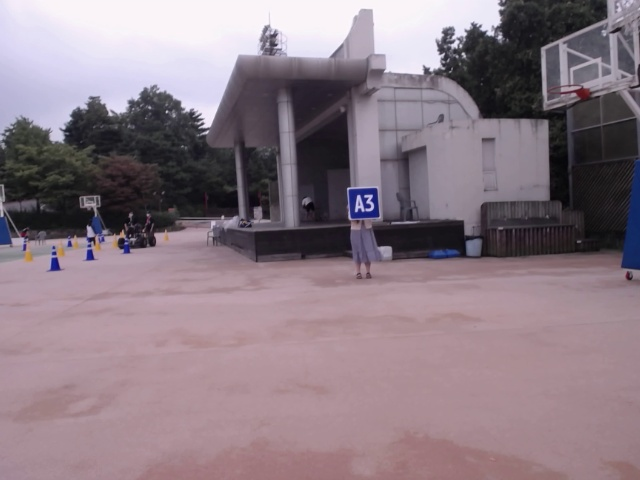delivery_a3: (348, 187, 381, 220)
